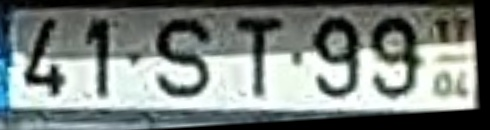1: (83, 16, 112, 105)
4: (19, 17, 69, 100)
9: (368, 13, 422, 102), (311, 13, 364, 103)
S: (150, 13, 215, 102)
T: (233, 14, 284, 102)
